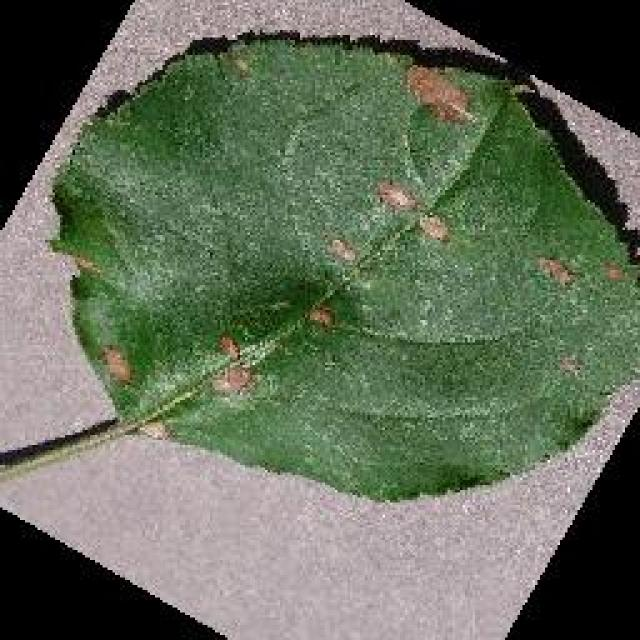Black_rot: (45, 30, 637, 502)
